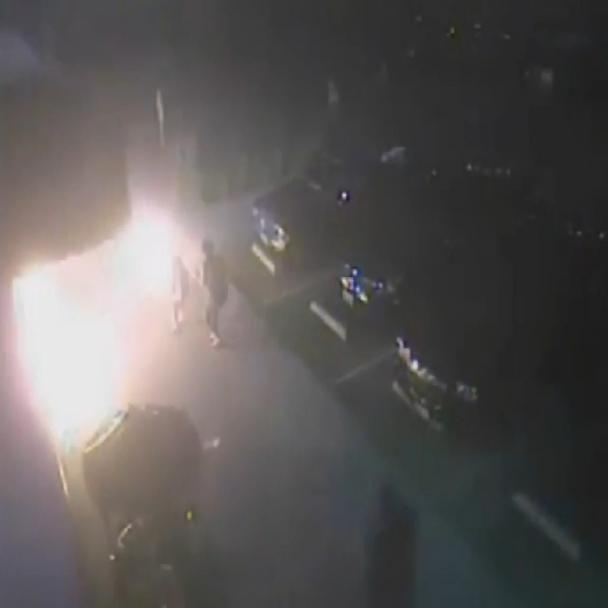Fire: (0, 122, 227, 500)
